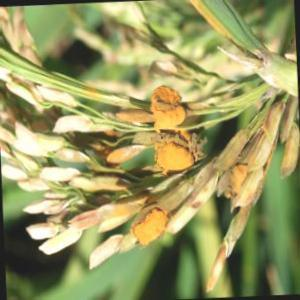Leaf_Scald: (148, 86, 194, 179), (132, 203, 169, 246), (107, 141, 142, 169), (226, 165, 253, 199), (115, 106, 138, 128)
